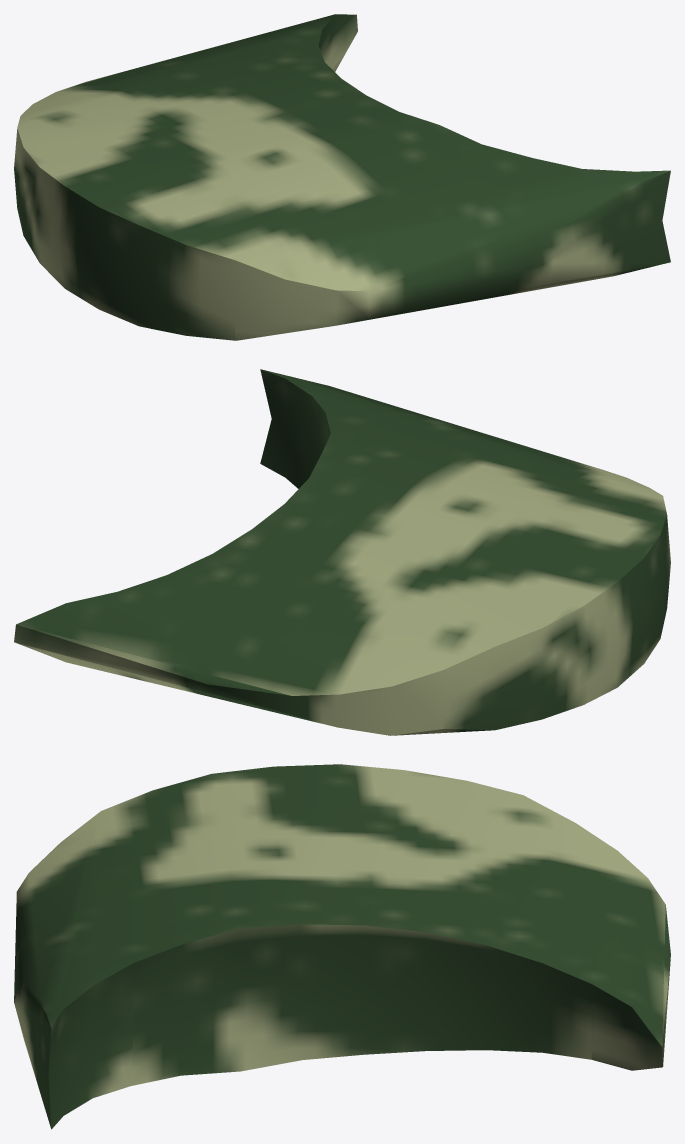
Rendered from link_body_38.obj.
The picture shows the model from 3 angles, top to bottom: view 1: azimuth 30°, elevation 25°; view 2: azimuth 150°, elevation 25°; view 3: azimuth 270°, elevation 25°; orthographic projection. The views are drawn at different scales.
Visible parts, largest first — view 1: link_body_38; view 2: link_body_38; view 3: link_body_38.
Part boxes in pixels (x1,y1,x2,y2): link_body_38: [14, 14, 670, 340]; link_body_38: [14, 369, 670, 735]; link_body_38: [14, 764, 670, 1129].
Size of the model in its own units: 6.17 by 1.59 by 6.59.
